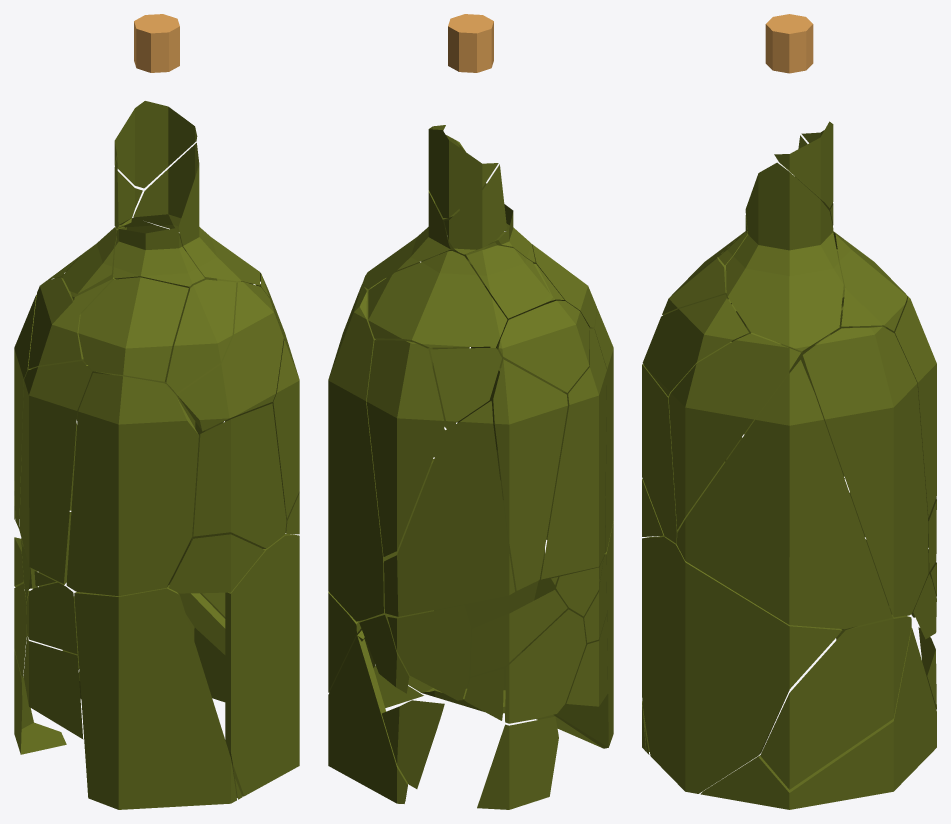
Rendered from bottle-pieces3.fbx.
3 renders of one model, left to right at view 1: azimuth 30°, elevation 25°; view 2: azimuth 150°, elevation 25°; view 3: azimuth 270°, elevation 25°, orthographic.
Visible parts, largest first — view 1: bottle_cell.009, bottle_cell.010, bottle_cell.005, bottle_cell.014, bottle_cell.006, bottle_cell.029, bottle_cell.026, bottle_cell.023, bottle_cell.020, bottle_cell.031, bottle_cell.011_cell.007, bottle_cell.008 (+15 smaller); view 2: bottle_cell.021, bottle_cell.003, bottle_cell.001, bottle_cell.015, bottle_cell.014, bottle_cell.024, bottle_cell, bottle_cell.028, bottle_cell.011_cell.014, bottle_cell.011_cell.019, bottle_cell.011_cell.001, bottle_cell.009 (+19 smaller); view 3: bottle_cell.004, bottle_cell.005, bottle_cell.003, bottle_cell.023, bottle_cell.002, bottle_cell.018, bottle_cell, bottle_cell.026, bottle_cell.006, bottle_cell.024, bottle_cell.001, cork (+5 smaller).
Part boxes in pixels (<box>): bottle_cell.009: <box>74,585,236,809</box>; bottle_cell.010: <box>66,373,198,596</box>; bottle_cell.005: <box>225,533,299,797</box>; bottle_cell.014: <box>19,361,91,583</box>; bottle_cell.006: <box>190,403,286,548</box>; bottle_cell.029: <box>78,277,188,383</box>; bottle_cell.026: <box>167,281,283,431</box>; bottle_cell.023: <box>133,143,260,285</box>; bottle_cell.020: <box>166,279,236,393</box>; bottle_cell.031: <box>114,101,197,188</box>; bottle_cell.011_cell.007: <box>23,635,83,739</box>; bottle_cell.008: <box>168,534,264,593</box>; bottle_cell.021: <box>384,401,514,616</box>; bottle_cell.003: <box>328,285,383,621</box>; bottle_cell.001: <box>366,340,444,556</box>; bottle_cell.015: <box>493,359,567,590</box>; bottle_cell.014: <box>541,328,606,579</box>; bottle_cell.024: <box>368,251,507,348</box>; bottle_cell: <box>328,630,423,803</box>; bottle_cell.028: <box>497,300,589,392</box>; bottle_cell.011_cell.014: <box>505,609,585,723</box>; bottle_cell.011_cell.019: <box>387,605,470,700</box>; bottle_cell.011_cell.001: <box>477,716,558,809</box>; bottle_cell.009: <box>521,521,613,748</box>; bottle_cell.004: <box>676,360,892,629</box>; bottle_cell.005: <box>642,536,842,793</box>; bottle_cell.003: <box>803,326,928,617</box>; bottle_cell.023: <box>726,162,843,352</box>; bottle_cell.002: <box>760,614,911,789</box>; bottle_cell.018: <box>668,333,800,529</box>; bottle_cell: <box>700,627,936,809</box>; bottle_cell.026: <box>642,294,748,396</box>; bottle_cell.006: <box>642,364,725,543</box>; bottle_cell.024: <box>834,232,907,332</box>; bottle_cell.001: <box>893,296,936,517</box>; cork: <box>765,14,813,73</box>.
Size of the model in its own units: 41.61 by 113 by 41.61.
